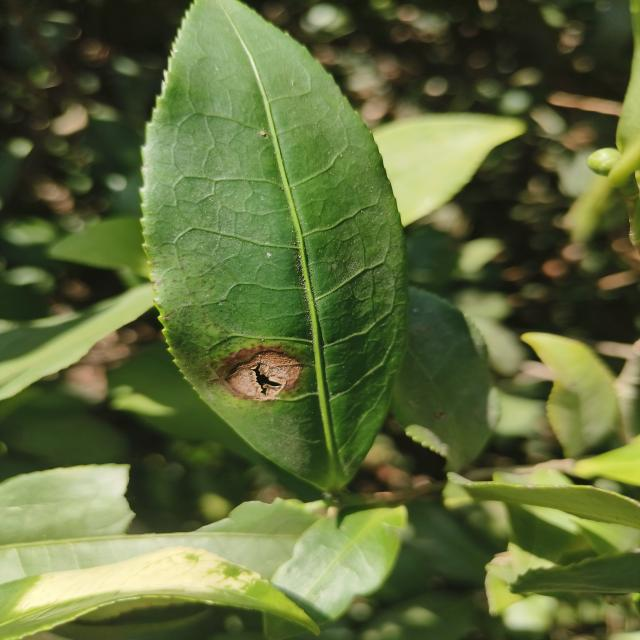Leaf: (143, 0, 407, 491), (0, 464, 312, 583), (0, 547, 319, 640), (391, 287, 498, 472), (0, 284, 154, 400), (373, 113, 525, 226), (270, 506, 407, 624), (522, 332, 620, 457), (454, 480, 640, 528), (49, 217, 149, 277), (511, 552, 640, 594)
